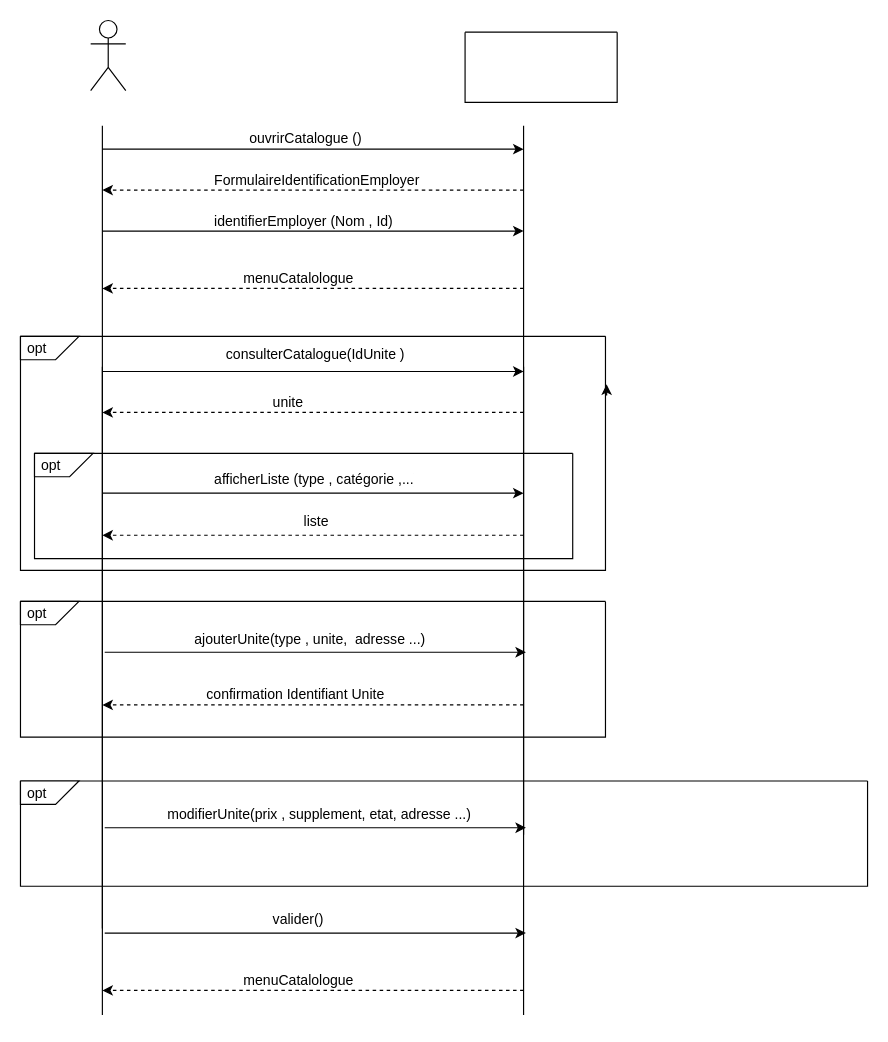
This 888x1042 diagram has some shape labels left out. The centre of each missing label's shape, as x and y in pixels:
": Employer" goes at [108,55].
": Systeme GEST IMMO" goes at [540,66].
